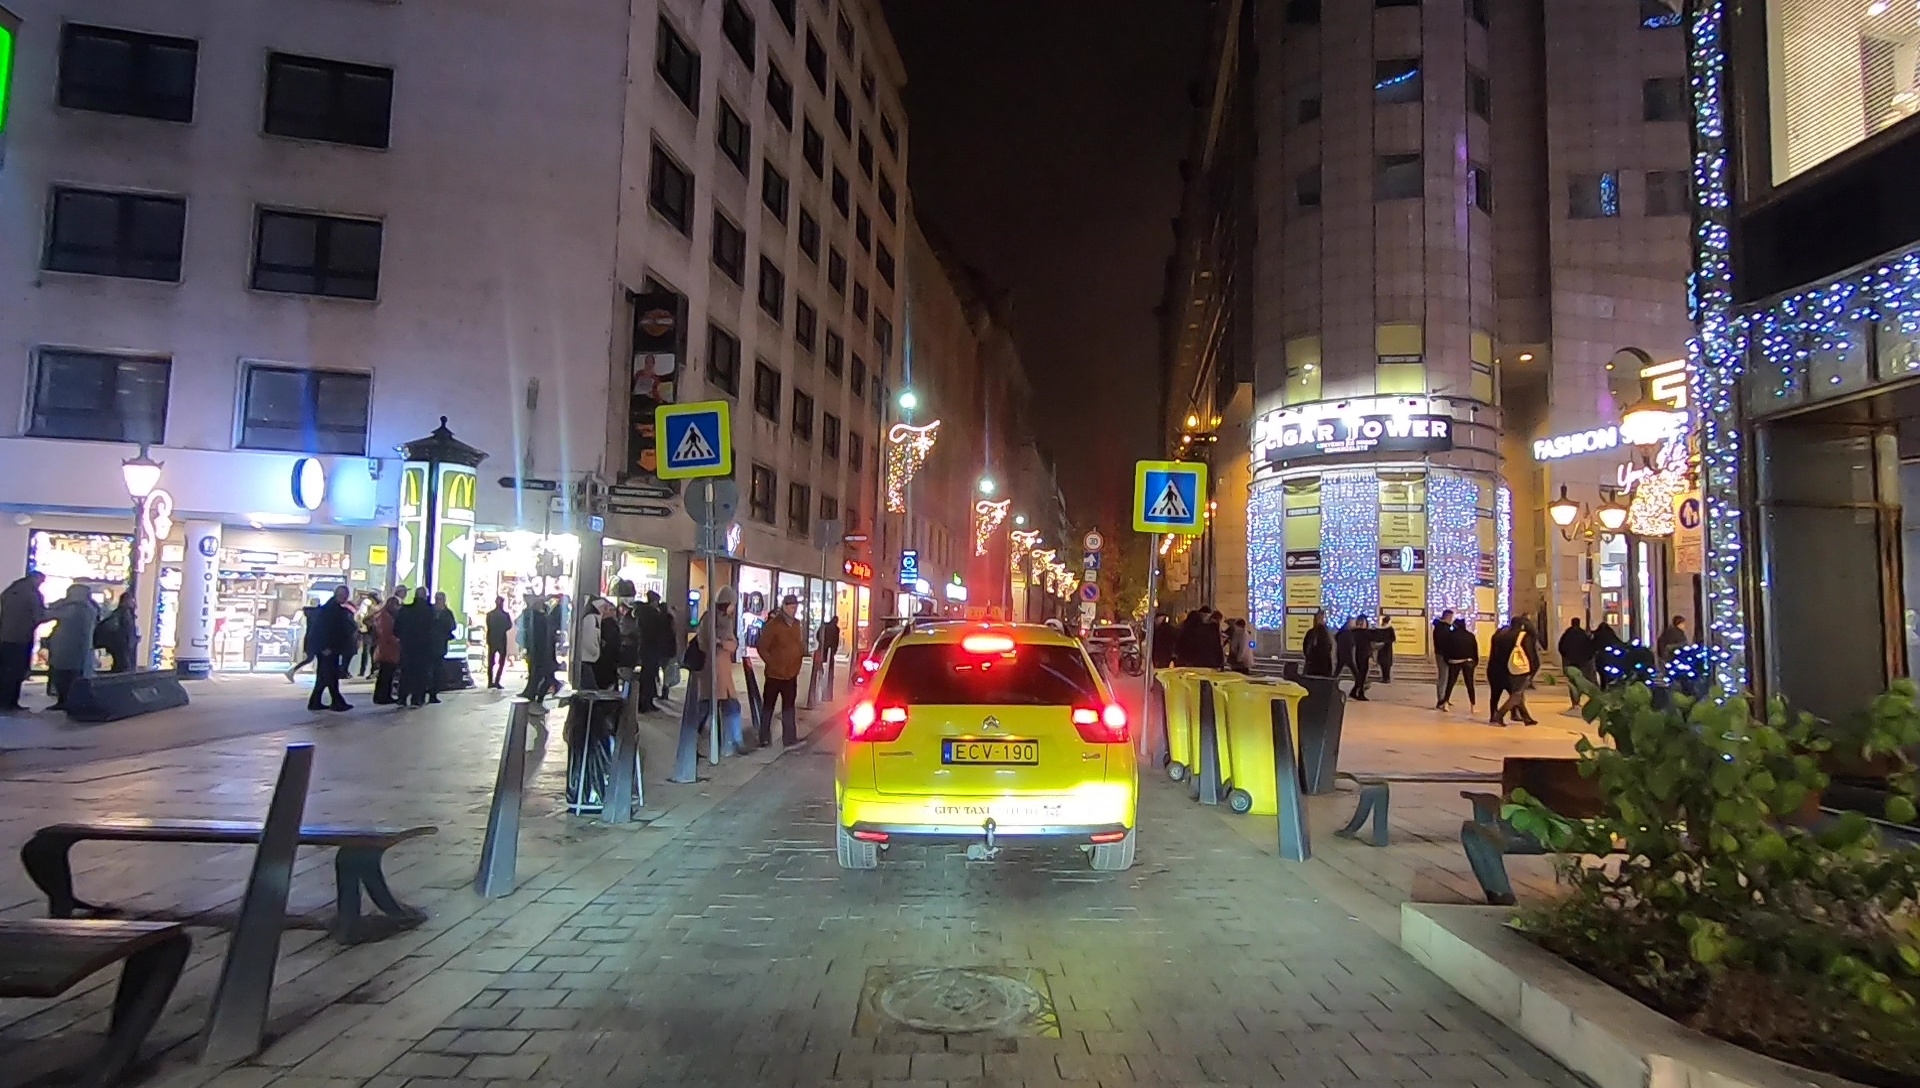person: (697, 595, 749, 756), (758, 597, 804, 756), (308, 589, 356, 711), (47, 587, 93, 699), (1, 573, 38, 711), (517, 593, 562, 702), (1497, 623, 1536, 730), (402, 586, 428, 710), (99, 593, 136, 680), (639, 593, 664, 710), (426, 589, 451, 704), (1451, 619, 1478, 717), (1304, 613, 1334, 700), (1180, 610, 1208, 697), (375, 595, 395, 702), (484, 593, 506, 693), (1434, 611, 1456, 710), (1349, 617, 1373, 702), (1228, 619, 1249, 706), (1373, 615, 1395, 686), (1210, 613, 1225, 695)
